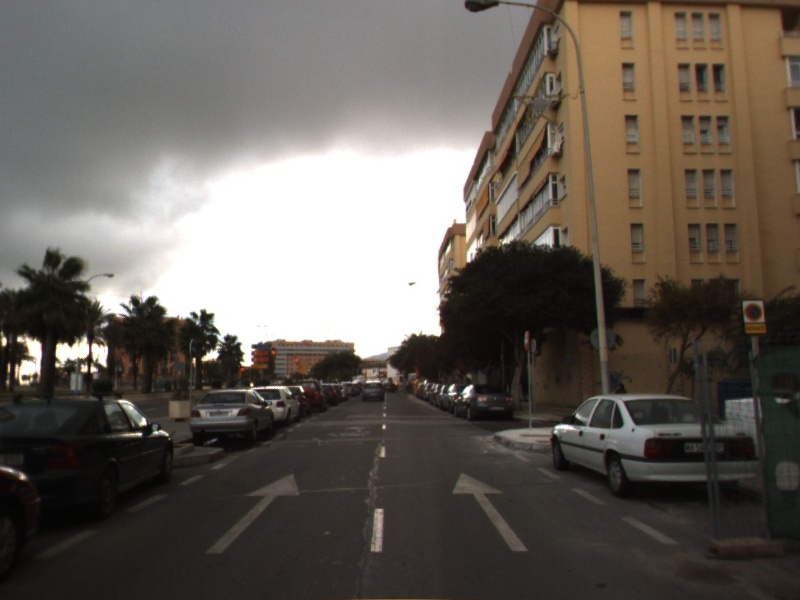STRAIGHT: (203, 472, 303, 556), (450, 469, 532, 553)
